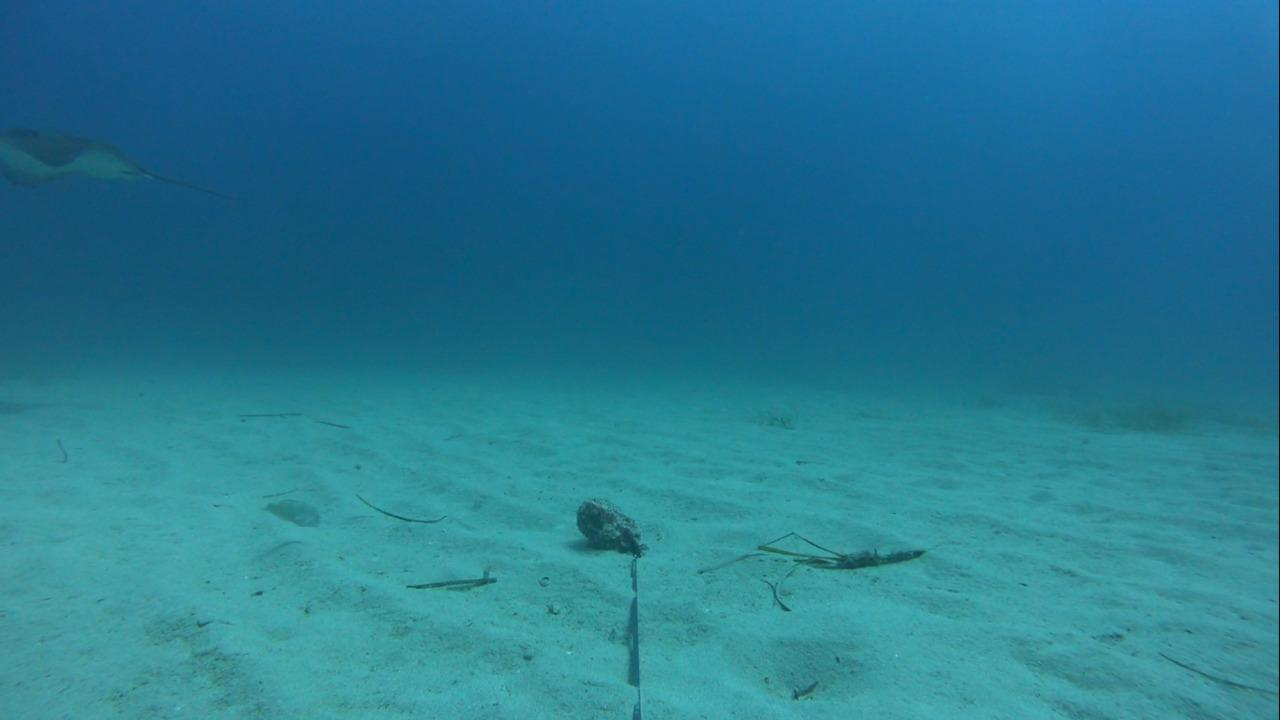myliobatis: (1, 117, 231, 200)
raor: (248, 492, 336, 534)
